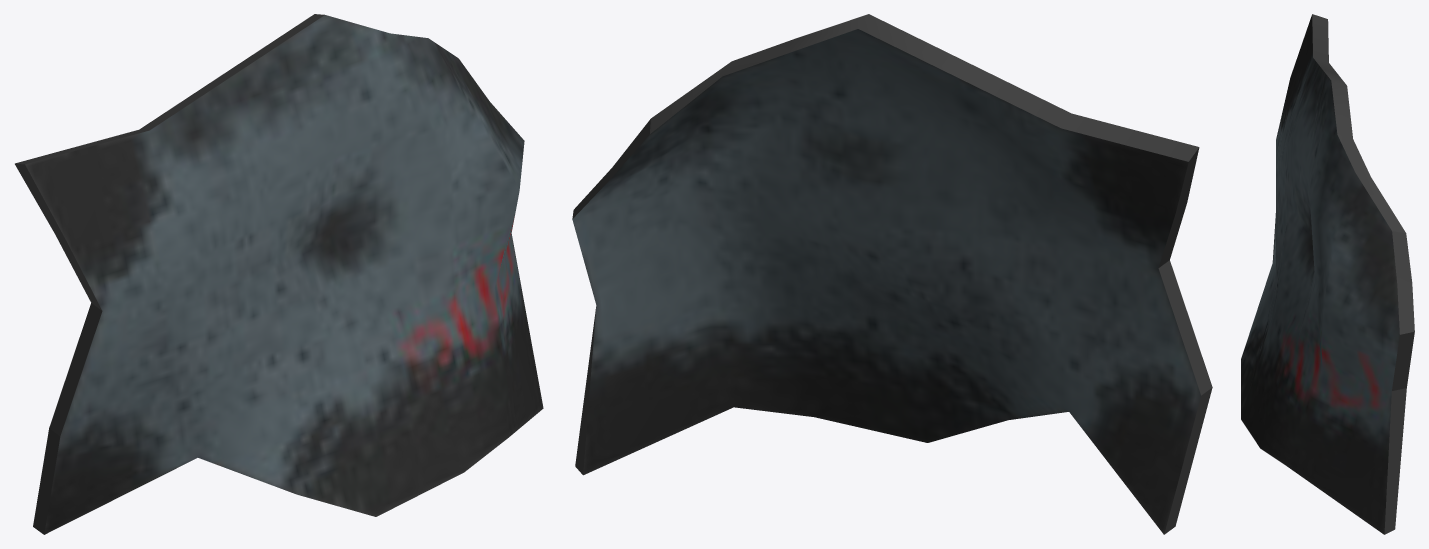
The model's file is FlyingDebri4.fbx.
3 views of the same model, side by side, from view 1: azimuth 30°, elevation 25°; view 2: azimuth 150°, elevation 25°; view 3: azimuth 270°, elevation 25° (orthographic). The views are drawn at different scales.
Visible parts, largest first — view 1: FlyingDebri4; view 2: FlyingDebri4; view 3: FlyingDebri4.
Boxes of the visible parts, box(x1,y1,x2,y2) form: FlyingDebri4: box(15, 14, 543, 534); FlyingDebri4: box(572, 14, 1212, 534); FlyingDebri4: box(1241, 14, 1414, 534).
Size of the model in its own units: 0.0582 by 0.0473 by 0.0206.
Materials: 1 (1 with a texture image).
